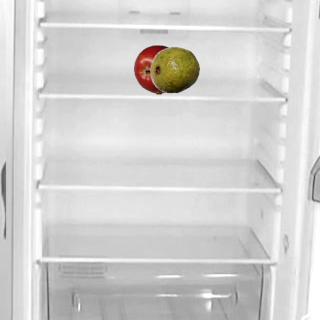Apple Braeburn: (133, 44, 183, 94)
Guava: (149, 44, 199, 94)
